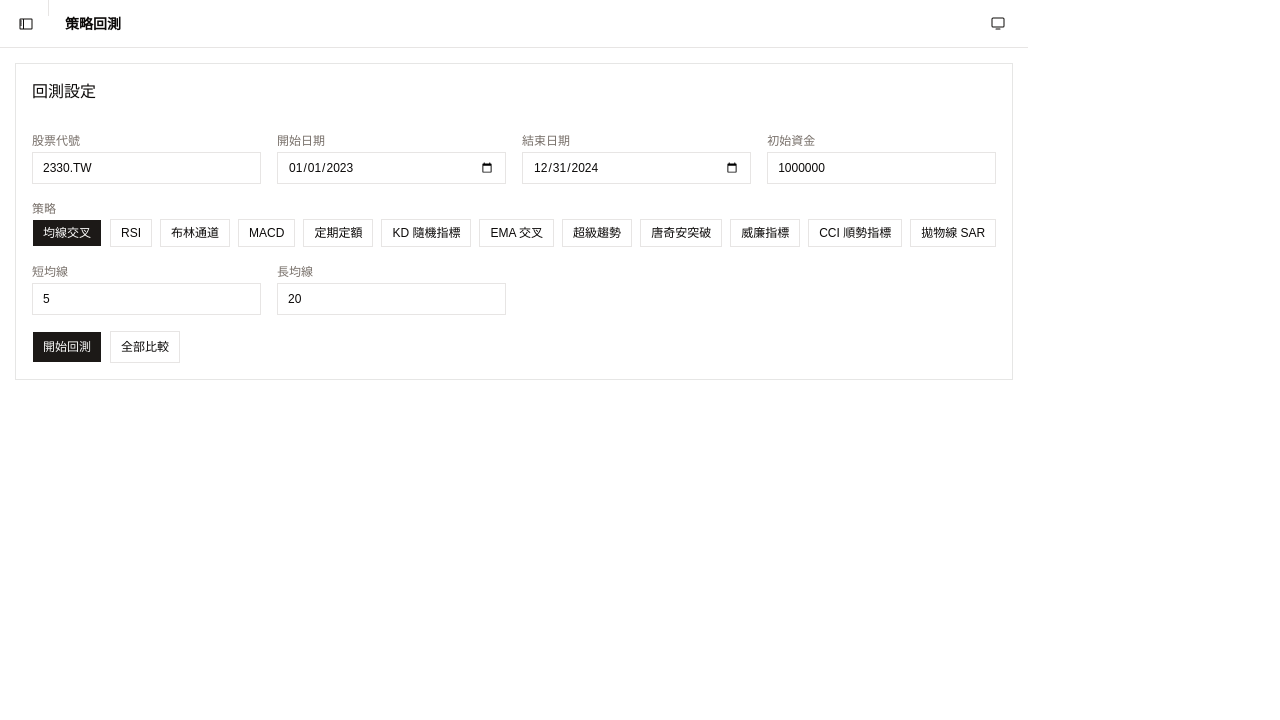
Test case: Backtest Page › runs all strategies and shows comparison table
Click the button "全部比較" at coordinates (145, 346), box [110,330,180,362]
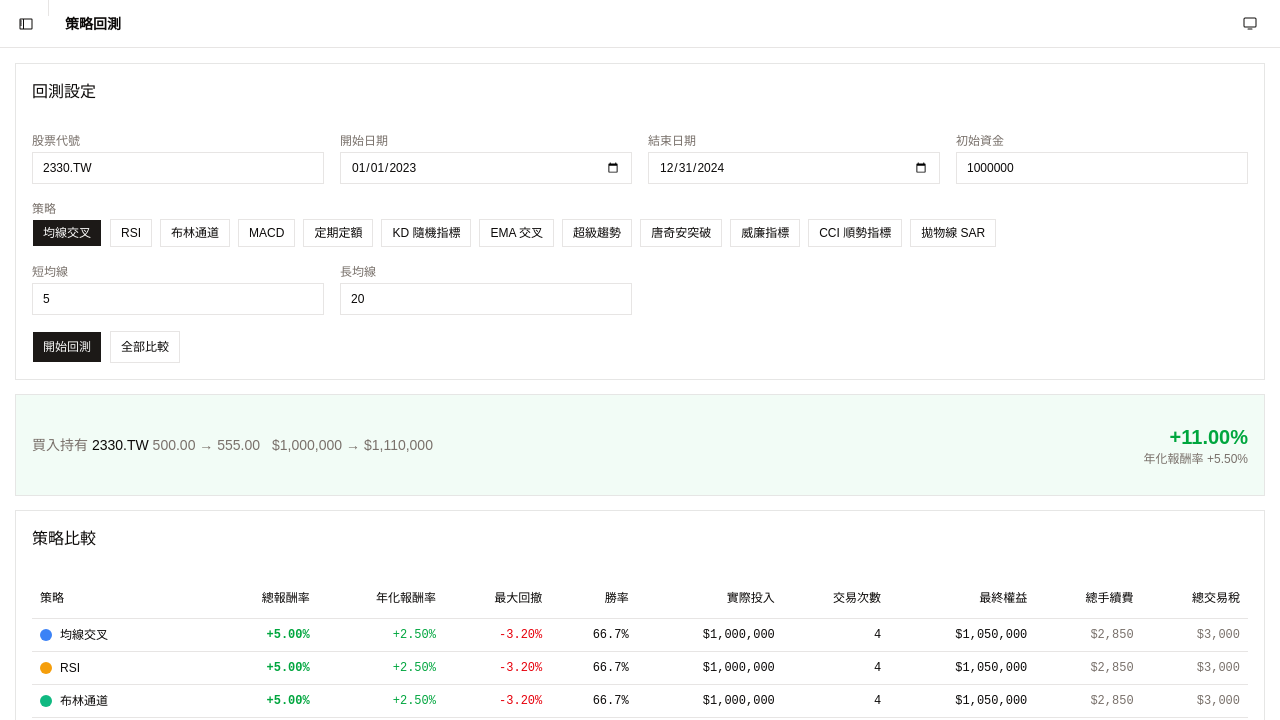
Now the text "策略比較" is shown, box [32,530,96,546]
